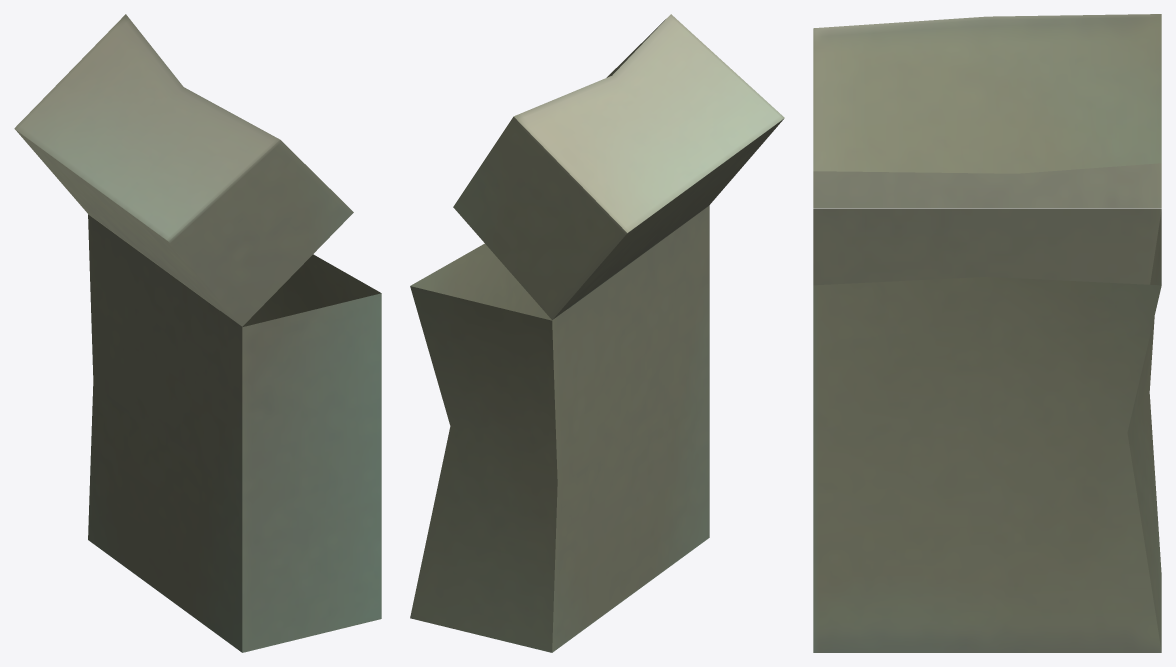
Rendered from trash01_mesh.fbx.
3 renders of one model, left to right at view 1: azimuth 30°, elevation 25°; view 2: azimuth 150°, elevation 25°; view 3: azimuth 270°, elevation 25°, orthographic. The views are drawn at different scales.
Parts seen in each view (by area): view 1: Cigs; view 2: Cigs; view 3: Cigs.
Part boxes in pixels (box(x1,y1,x2,y2)): Cigs: box(14, 14, 381, 652); Cigs: box(410, 14, 784, 652); Cigs: box(813, 14, 1161, 652).
Bounding box in the file's own units: 0.5557 × 1.29 × 0.6973.
